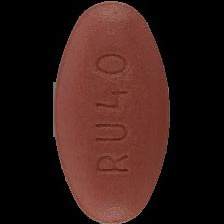61786-837: (0, 0, 224, 224)
